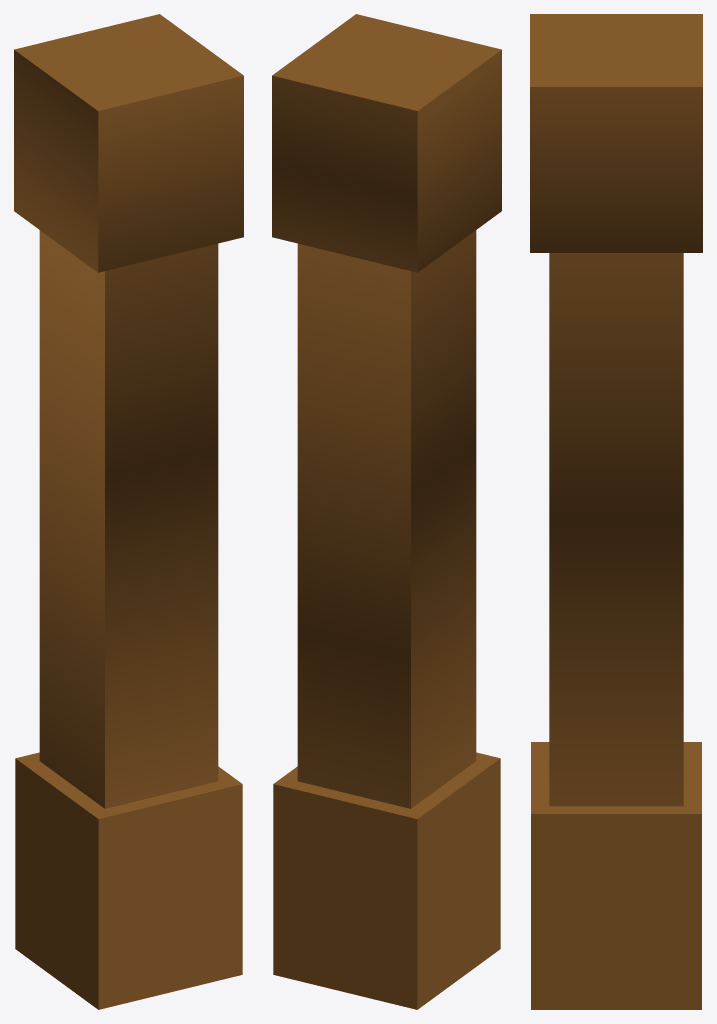
Rendered from Pilar Solo.fbx.
The picture shows the model from 3 angles, left to right: view 1: azimuth 30°, elevation 25°; view 2: azimuth 150°, elevation 25°; view 3: azimuth 270°, elevation 25°; orthographic projection. The views are drawn at different scales.
Visible parts, largest first — view 1: Cube.012; view 2: Cube.012; view 3: Cube.012.
Part boxes in pixels (x1,y1,x2,y2): Cube.012: (14, 14, 243, 1009); Cube.012: (272, 14, 501, 1009); Cube.012: (530, 14, 702, 1009).
Bounding box in the file's own units: 69.16 × 408 × 69.16.
